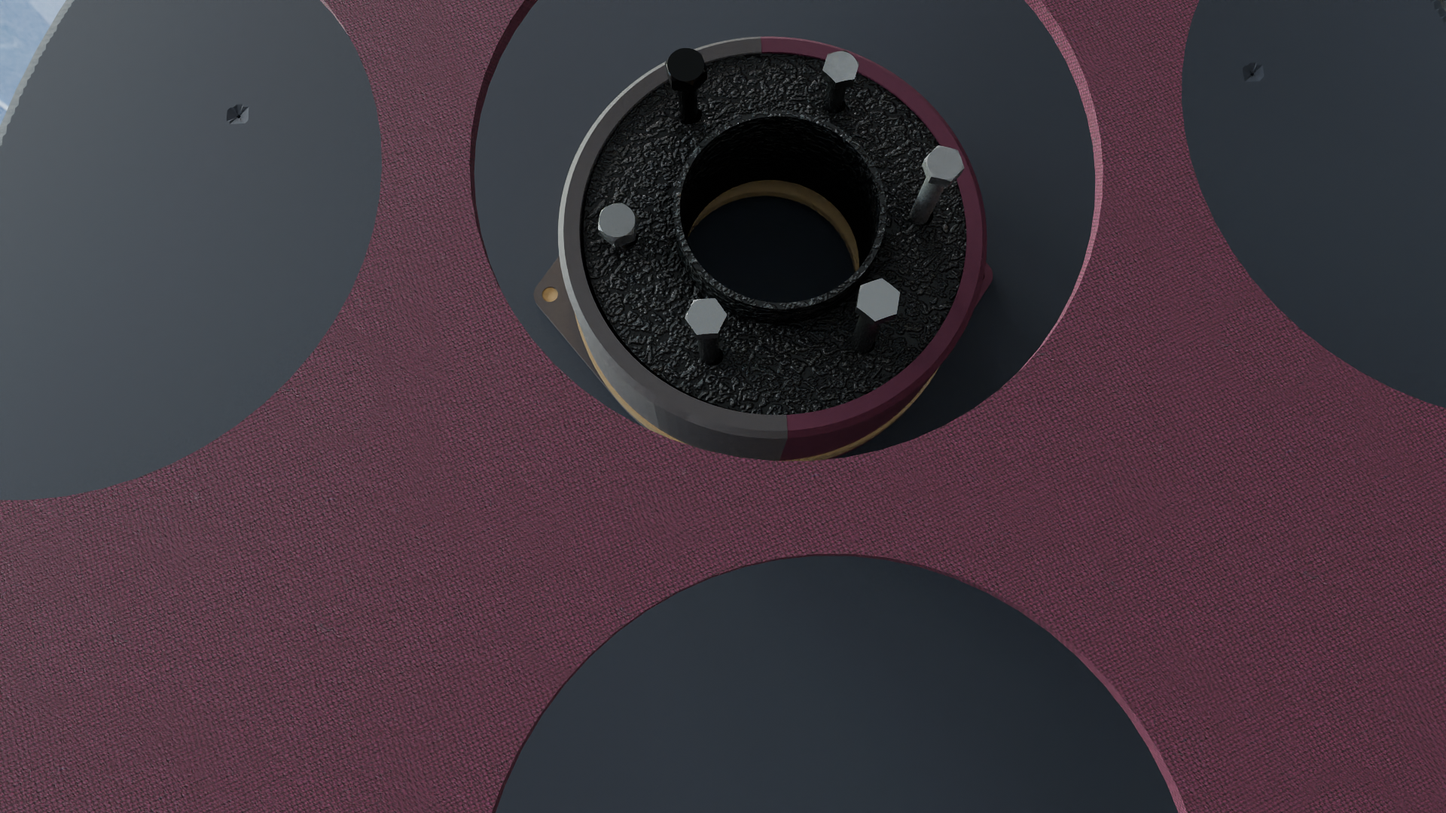bolt: (857, 279, 900, 321), (685, 298, 728, 335), (665, 48, 706, 86), (598, 203, 637, 242), (925, 145, 964, 181), (822, 50, 859, 83)
